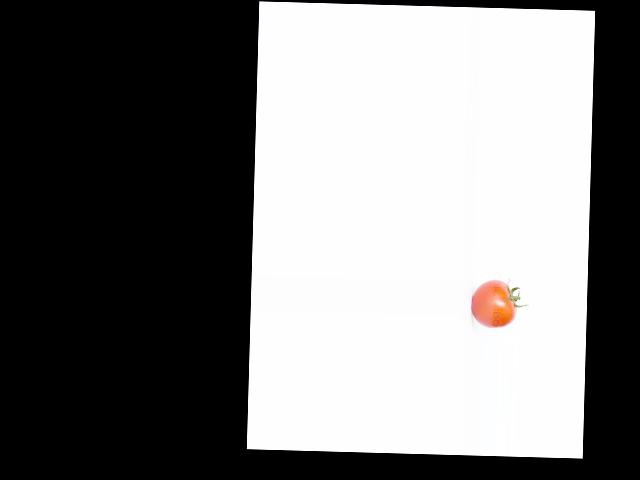tomato: (471, 279, 517, 329)
